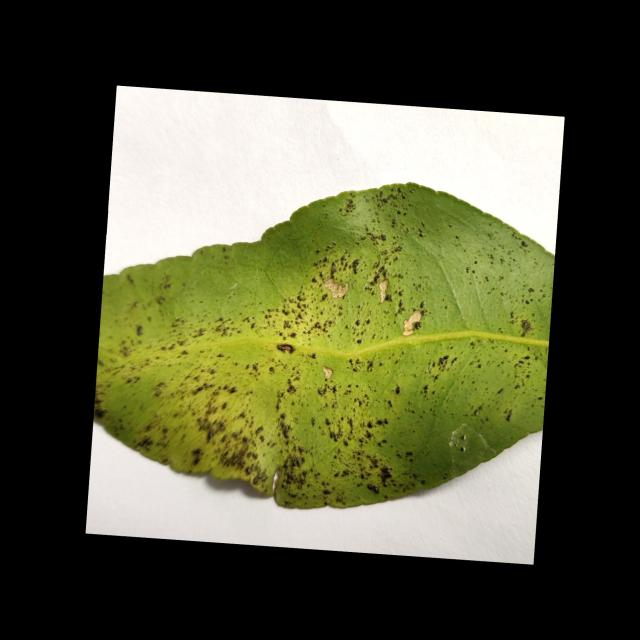melanose: (94, 183, 554, 508)
